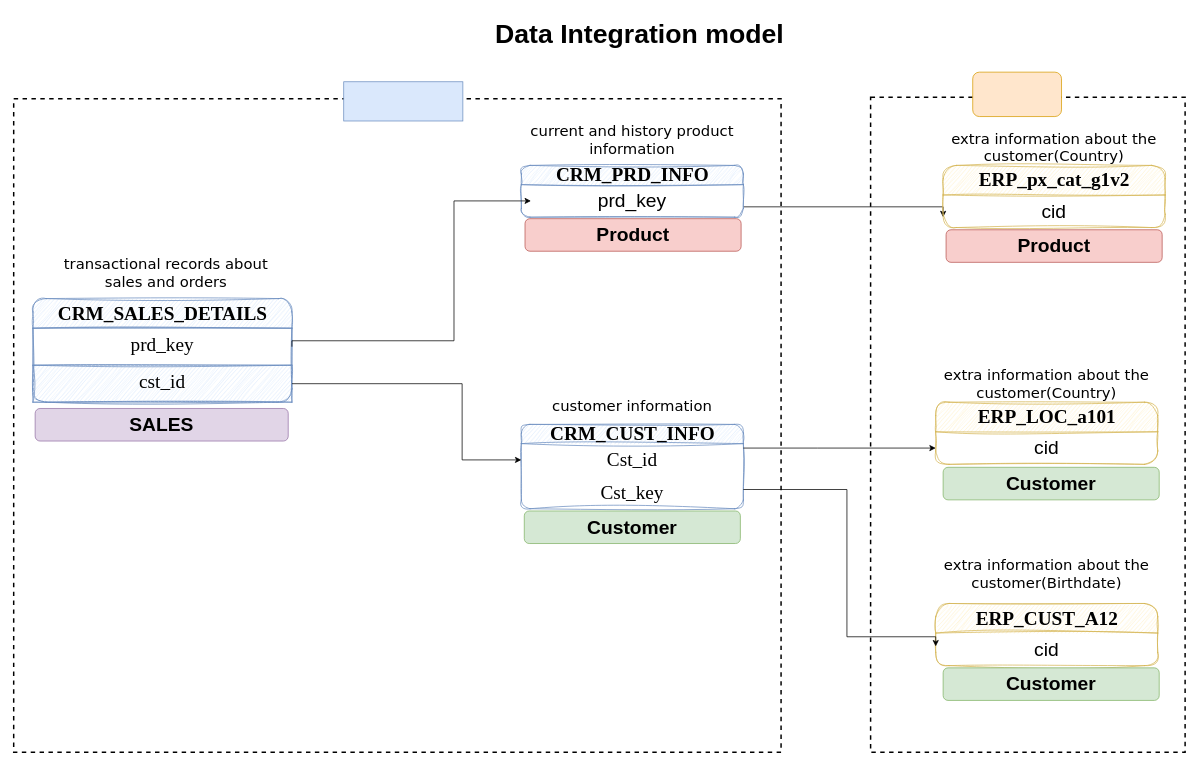
The diagram is 1198 pixels wide and 765 high, and some of its shapes have lost their labels. Each missing label, with the centre of its shape:
"CRM" belongs at pixel 403 101.
"ERP" belongs at pixel 1017 94.
